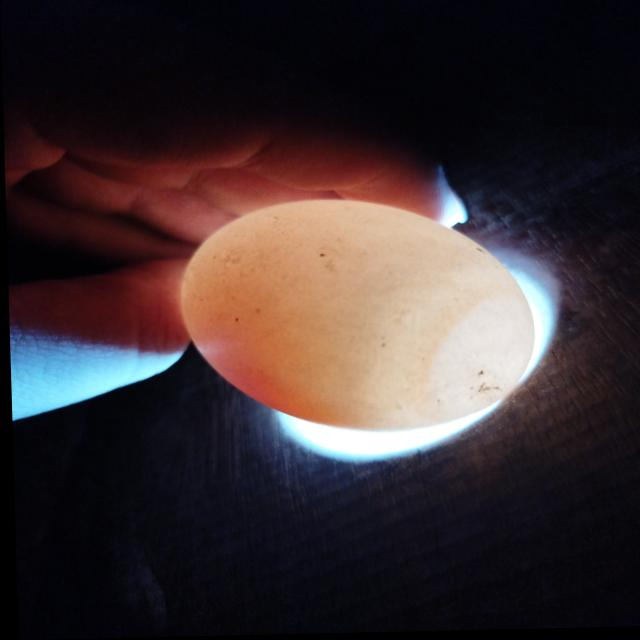Camara de Ar: (427, 299, 533, 417)
Gema Quebrada: (195, 281, 323, 423)
